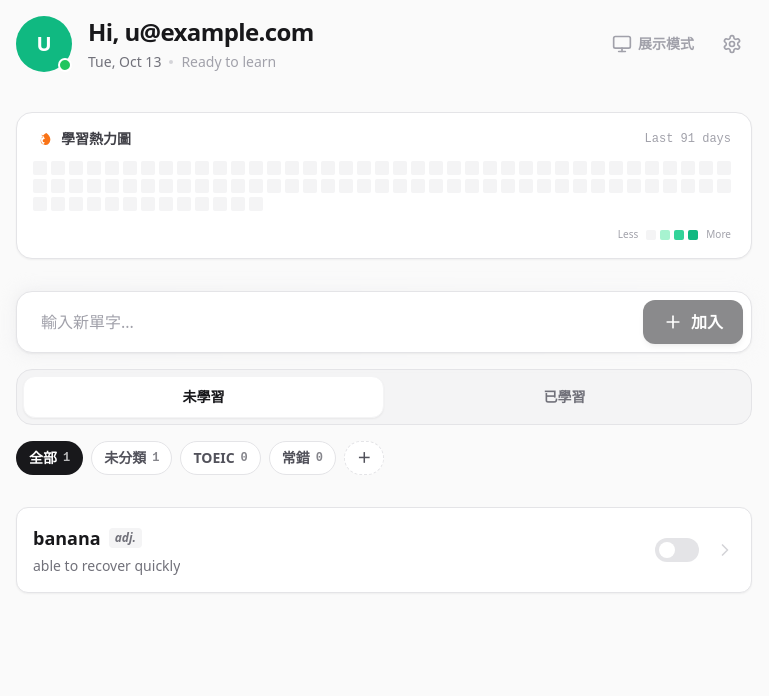
空資料夾顯示專屬訊息,不是「目前沒有單字」
What coordinates should you click on to do the following:
click the button "TOEIC 0"
I would click on:
 (221, 458)
Its box is [180,441,261,475].
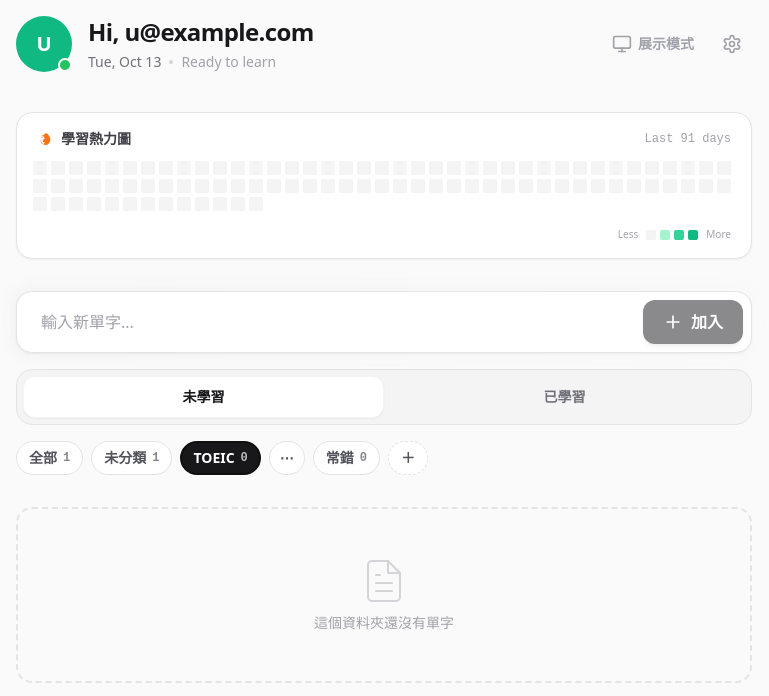
Expected: the text "這個資料夾還沒有單字" is shown, [314,613,454,633]
